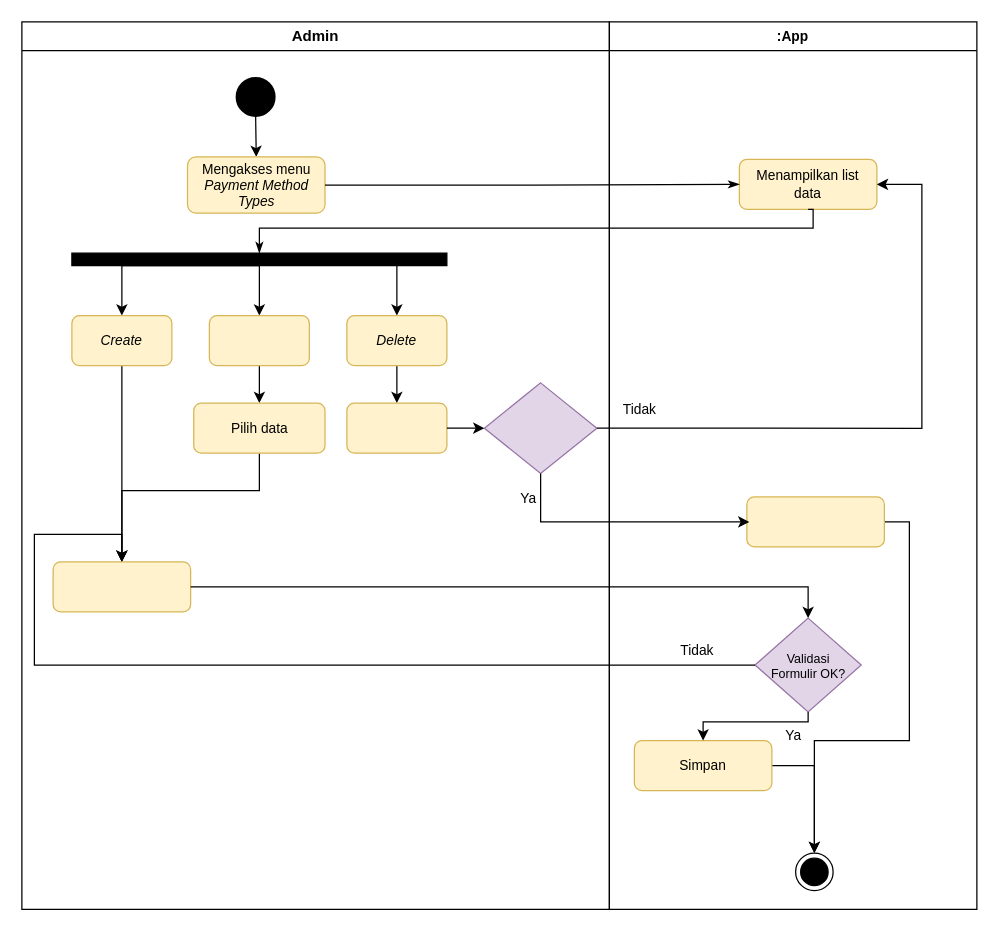
This 999x931 diagram has some shape labels left out. The centre of each missing label's shape, as x and y in pixels:
"Checklist Baris" belongs at [396,427].
"Edit" belongs at [258,340].
"Hapus data" belongs at [815,521].
"Input data" belongs at [121,586].
"Konfirmasi?" belongs at [540,428].
